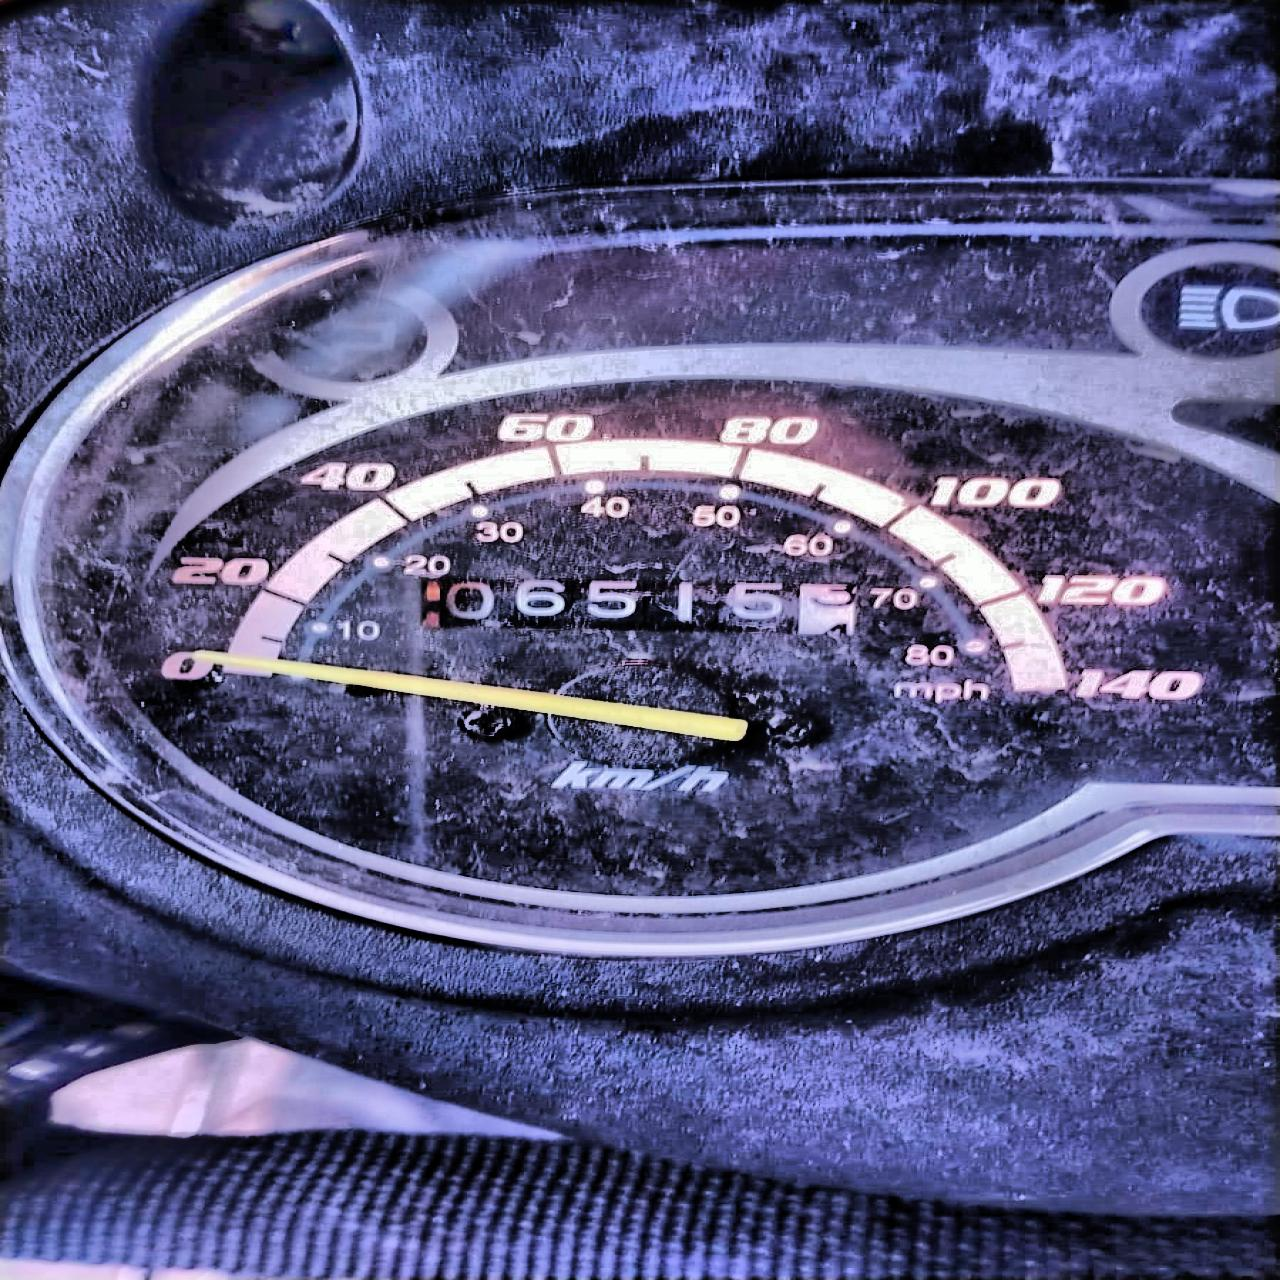0: (443, 579, 495, 622)
1: (670, 579, 702, 627)
3: (808, 577, 859, 610)
5: (584, 577, 642, 620), (730, 580, 784, 620)
6: (511, 577, 568, 615)
odometer: (414, 567, 877, 642)
